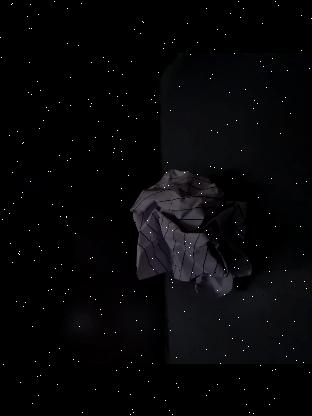Others: (127, 166, 256, 298)
